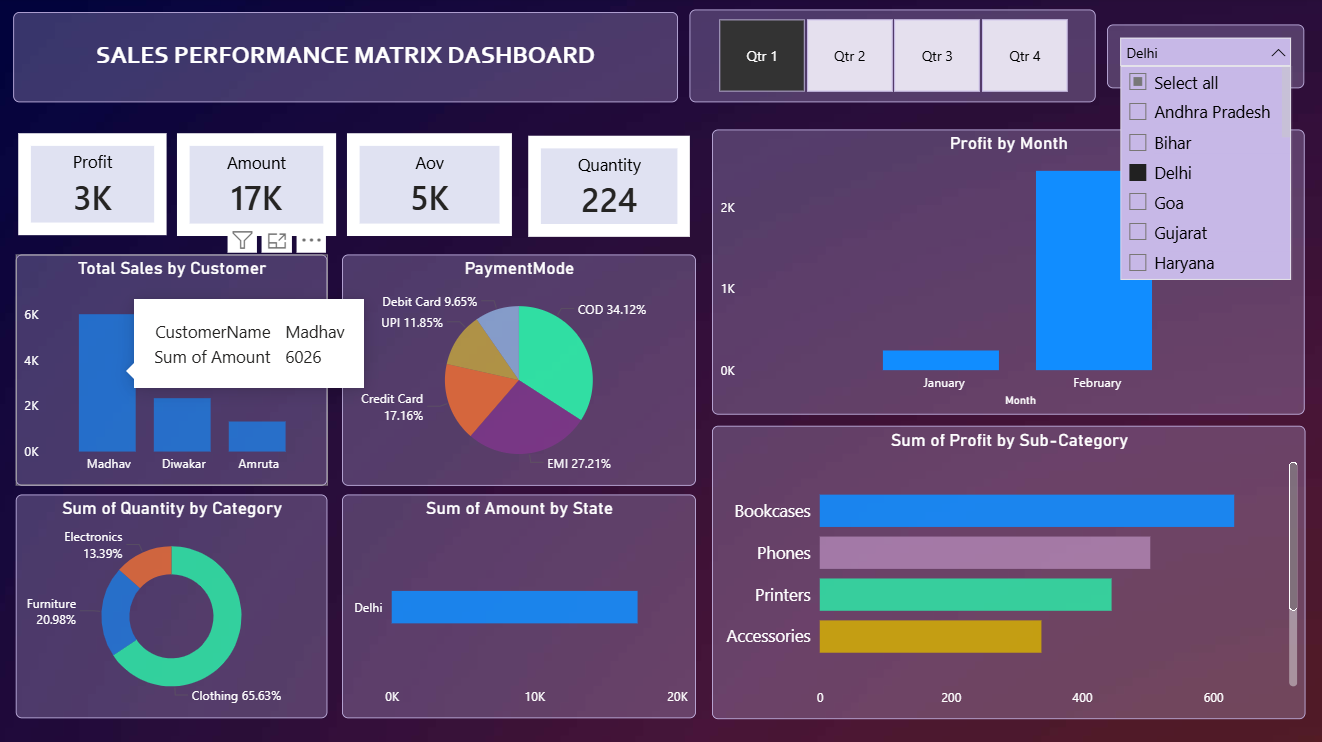

What the dashboard file says about the page in this screenshot:
{"tool":"powerbi","page":{"name":"Sales Dashboard","canvas":[1280,720],"ordinal":0},"visuals":[{"type":"textbox","title":"SALES PERFORMANCE MATRIX DASHBOARD","box":[15.7,14.5,641.8,86.9],"z":0},{"type":"clusteredColumnChart","title":"Profit by Month","fields":{"Category":["orders.Order Date.Variation.Date Hierarchy.Month"],"Y":["Sum(details.Profit)"]},"box":[690.1,127.9,571.9,275.1],"z":1000},{"type":"barChart","fields":{"Y":["Sum(details.Profit)"],"Category":["details.Sub-Category"]},"box":[690.1,413.8,573.1,283.5],"z":2000},{"type":"donutChart","fields":{"Category":["details.Category"],"Y":["Sum(details.Quantity)"]},"box":[18.1,480.2,300.4,216],"z":3000},{"type":"pieChart","title":"PaymentMode","fields":{"Y":["Sum(details.Amount)"],"Category":["details.PaymentMode"]},"box":[333,248.5,341.4,223.2],"z":4000},{"type":"cardVisual","fields":{"Data":["Sum(details.Profit)"]},"box":[15.7,127.3,153.4,108.1],"z":5000},{"type":"cardVisual","fields":{"Data":["Sum(details.Amount)"]},"box":[169.1,127.3,163.9,109.8],"z":6000},{"type":"cardVisual","fields":{"Data":["Sum(details.Quantity)"]},"box":[507.9,129.1,166.5,107.4],"z":7000},{"type":"barChart","fields":{"Category":["orders.State"],"Y":["Sum(details.Amount)"]},"box":[333,480.2,341.4,216],"z":8000},{"type":"columnChart","title":"Total Sales by Customer","fields":{"Category":["orders.CustomerName"],"Y":["Sum(details.Amount)"]},"box":[18.1,248.5,300.4,223.2],"z":9000},{"type":"slicer","fields":{"Values":["orders.Order Date.Variation.Date Hierarchy.Quarter"]},"box":[668.7,12.6,391.7,89.5],"z":10000},{"type":"slicer","fields":{"Values":["orders.State"]},"box":[1071.3,26.5,190.6,61.5],"z":11000},{"type":"cardVisual","fields":{"Data":["Sum(details.Aov)"]},"box":[333,127.3,169.1,109.8],"z":12000}]}

Visuals, with their boxes in screenshot pixels (x1, y1, x2, y2), scaled from the page's 1280x720 canvas onto the 1322x742 screenshot:
"SALES PERFORMANCE MATRIX DASHBOARD" textbox: pyautogui.locateOnScreen(16, 15, 679, 104)
"Profit by Month" clusteredColumnChart: pyautogui.locateOnScreen(713, 132, 1303, 415)
barChart - Sum(details.Profit) x details.Sub-Category: pyautogui.locateOnScreen(713, 426, 1305, 719)
donutChart - details.Category x Sum(details.Quantity): pyautogui.locateOnScreen(19, 495, 329, 717)
"PaymentMode" pieChart: pyautogui.locateOnScreen(344, 256, 697, 486)
cardVisual - Sum(details.Profit): pyautogui.locateOnScreen(16, 131, 175, 243)
cardVisual - Sum(details.Amount): pyautogui.locateOnScreen(175, 131, 344, 244)
cardVisual - Sum(details.Quantity): pyautogui.locateOnScreen(525, 133, 697, 244)
barChart - orders.State x Sum(details.Amount): pyautogui.locateOnScreen(344, 495, 697, 717)
"Total Sales by Customer" columnChart: pyautogui.locateOnScreen(19, 256, 329, 486)
slicer - orders.Order Date.Variation.Date Hierarchy.Quarter: pyautogui.locateOnScreen(691, 13, 1095, 105)
slicer - orders.State: pyautogui.locateOnScreen(1106, 27, 1303, 91)
cardVisual - Sum(details.Aov): pyautogui.locateOnScreen(344, 131, 519, 244)
